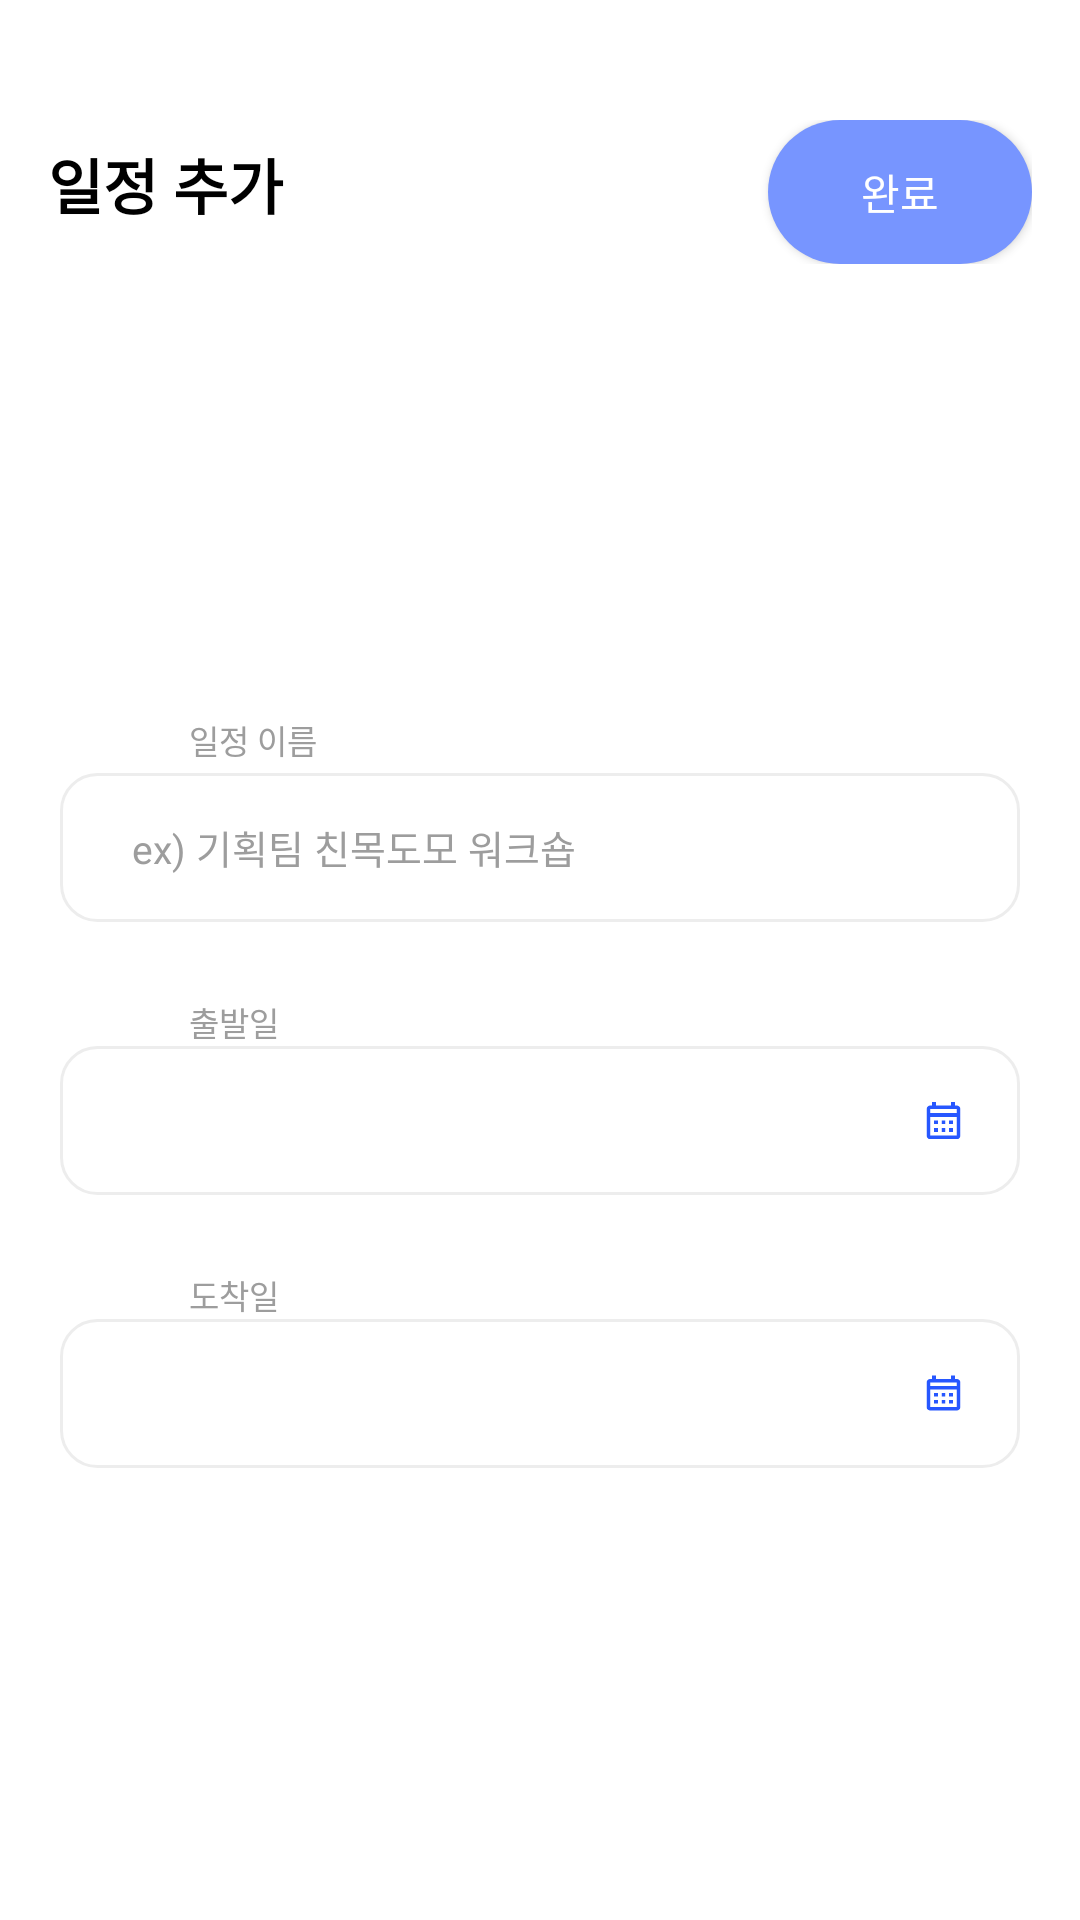

Icons on this 1080*1920 Android screen, each with its box as [left=x1, top=y1, right=x2, bottom=y2]:
calendar: [left=926, top=1102, right=961, bottom=1139], [left=926, top=1375, right=961, bottom=1411]
